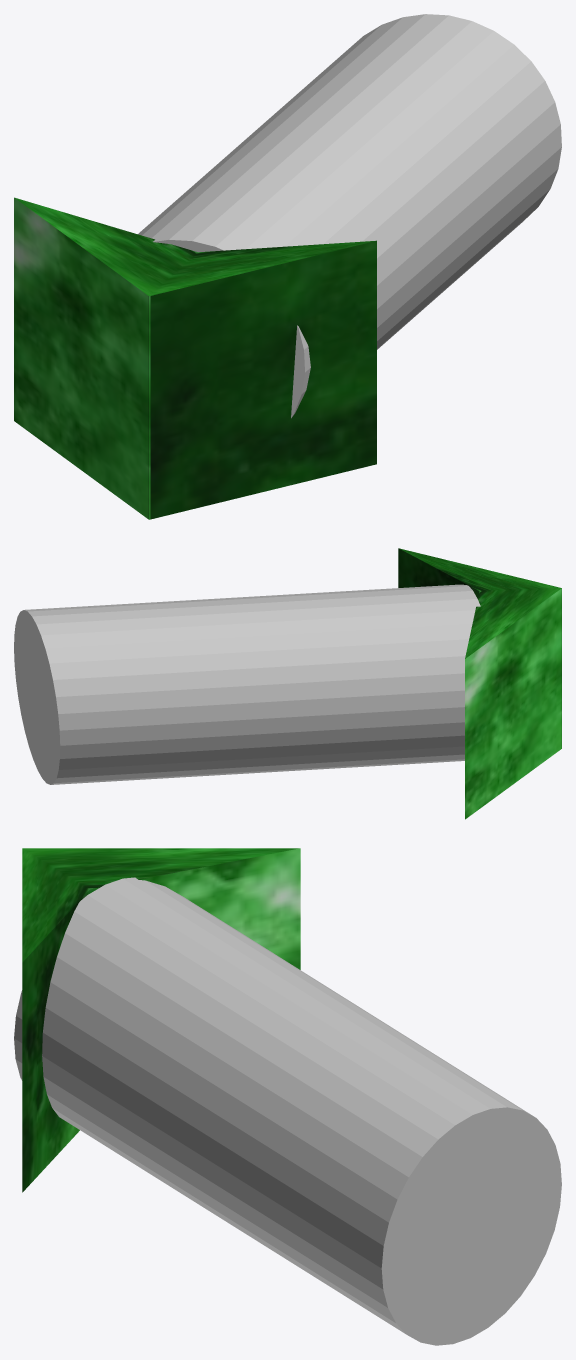
File: chorine arrows.fbx
3 renders of one model, top to bottom at view 1: azimuth 30°, elevation 25°; view 2: azimuth 150°, elevation 25°; view 3: azimuth 270°, elevation 25°, orthographic. The views are drawn at different scales.
Parts seen in each view (by area): view 1: Cylinder; view 2: Cylinder; view 3: Cylinder.
Boxes of the visible parts, <box> form: Cylinder: <box>14,14,561,519</box>; Cylinder: <box>14,548,561,819</box>; Cylinder: <box>14,848,561,1345</box>.
Size of the model in its own units: 550 by 210 by 431.
